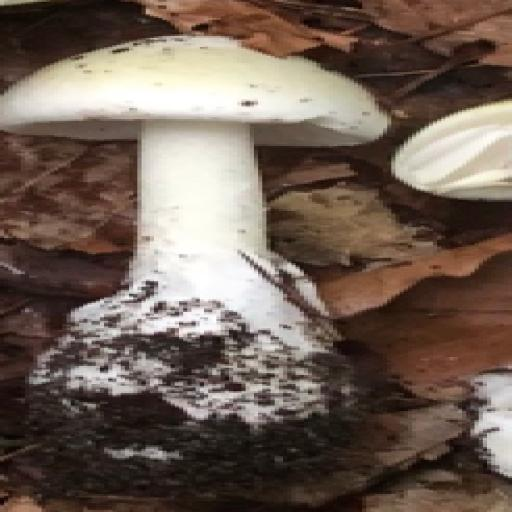Death Cap: (8, 16, 412, 468)
